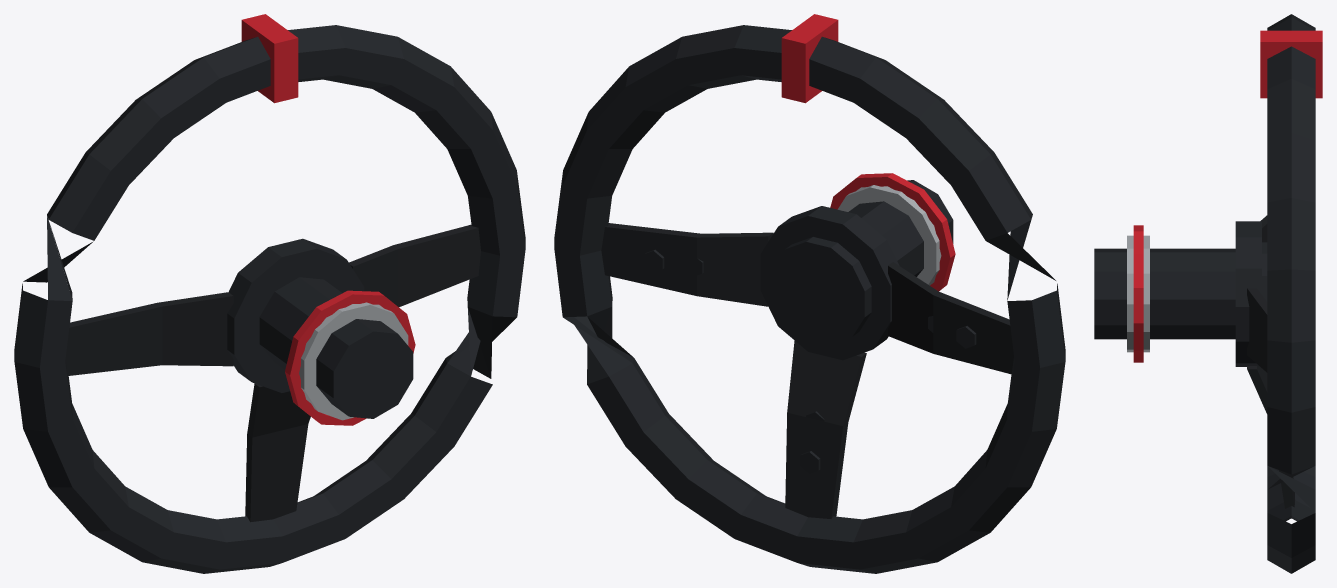
File: hana_roadster.glb
3 renders of one model, left to right at view 1: azimuth 30°, elevation 25°; view 2: azimuth 150°, elevation 25°; view 3: azimuth 270°, elevation 25°, orthographic. The views are drawn at different scales.
Visible parts, largest first — view 1: model; view 2: model; view 3: model.
Boxes of the visible parts, box(x1,y1,x2,y2) form: model: box(14, 14, 525, 573); model: box(554, 14, 1065, 573); model: box(1094, 14, 1322, 573).
Bounding box in the file's own units: 0.342 × 0.344 × 0.139.
3 materials, 1 textured.
